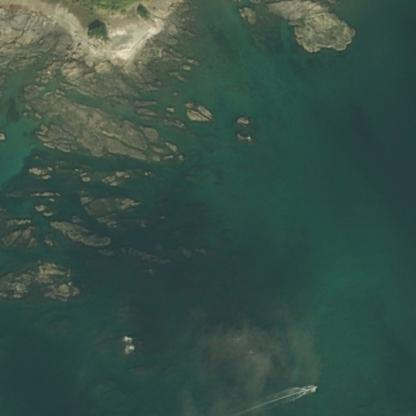ship: (310, 385, 317, 390)
